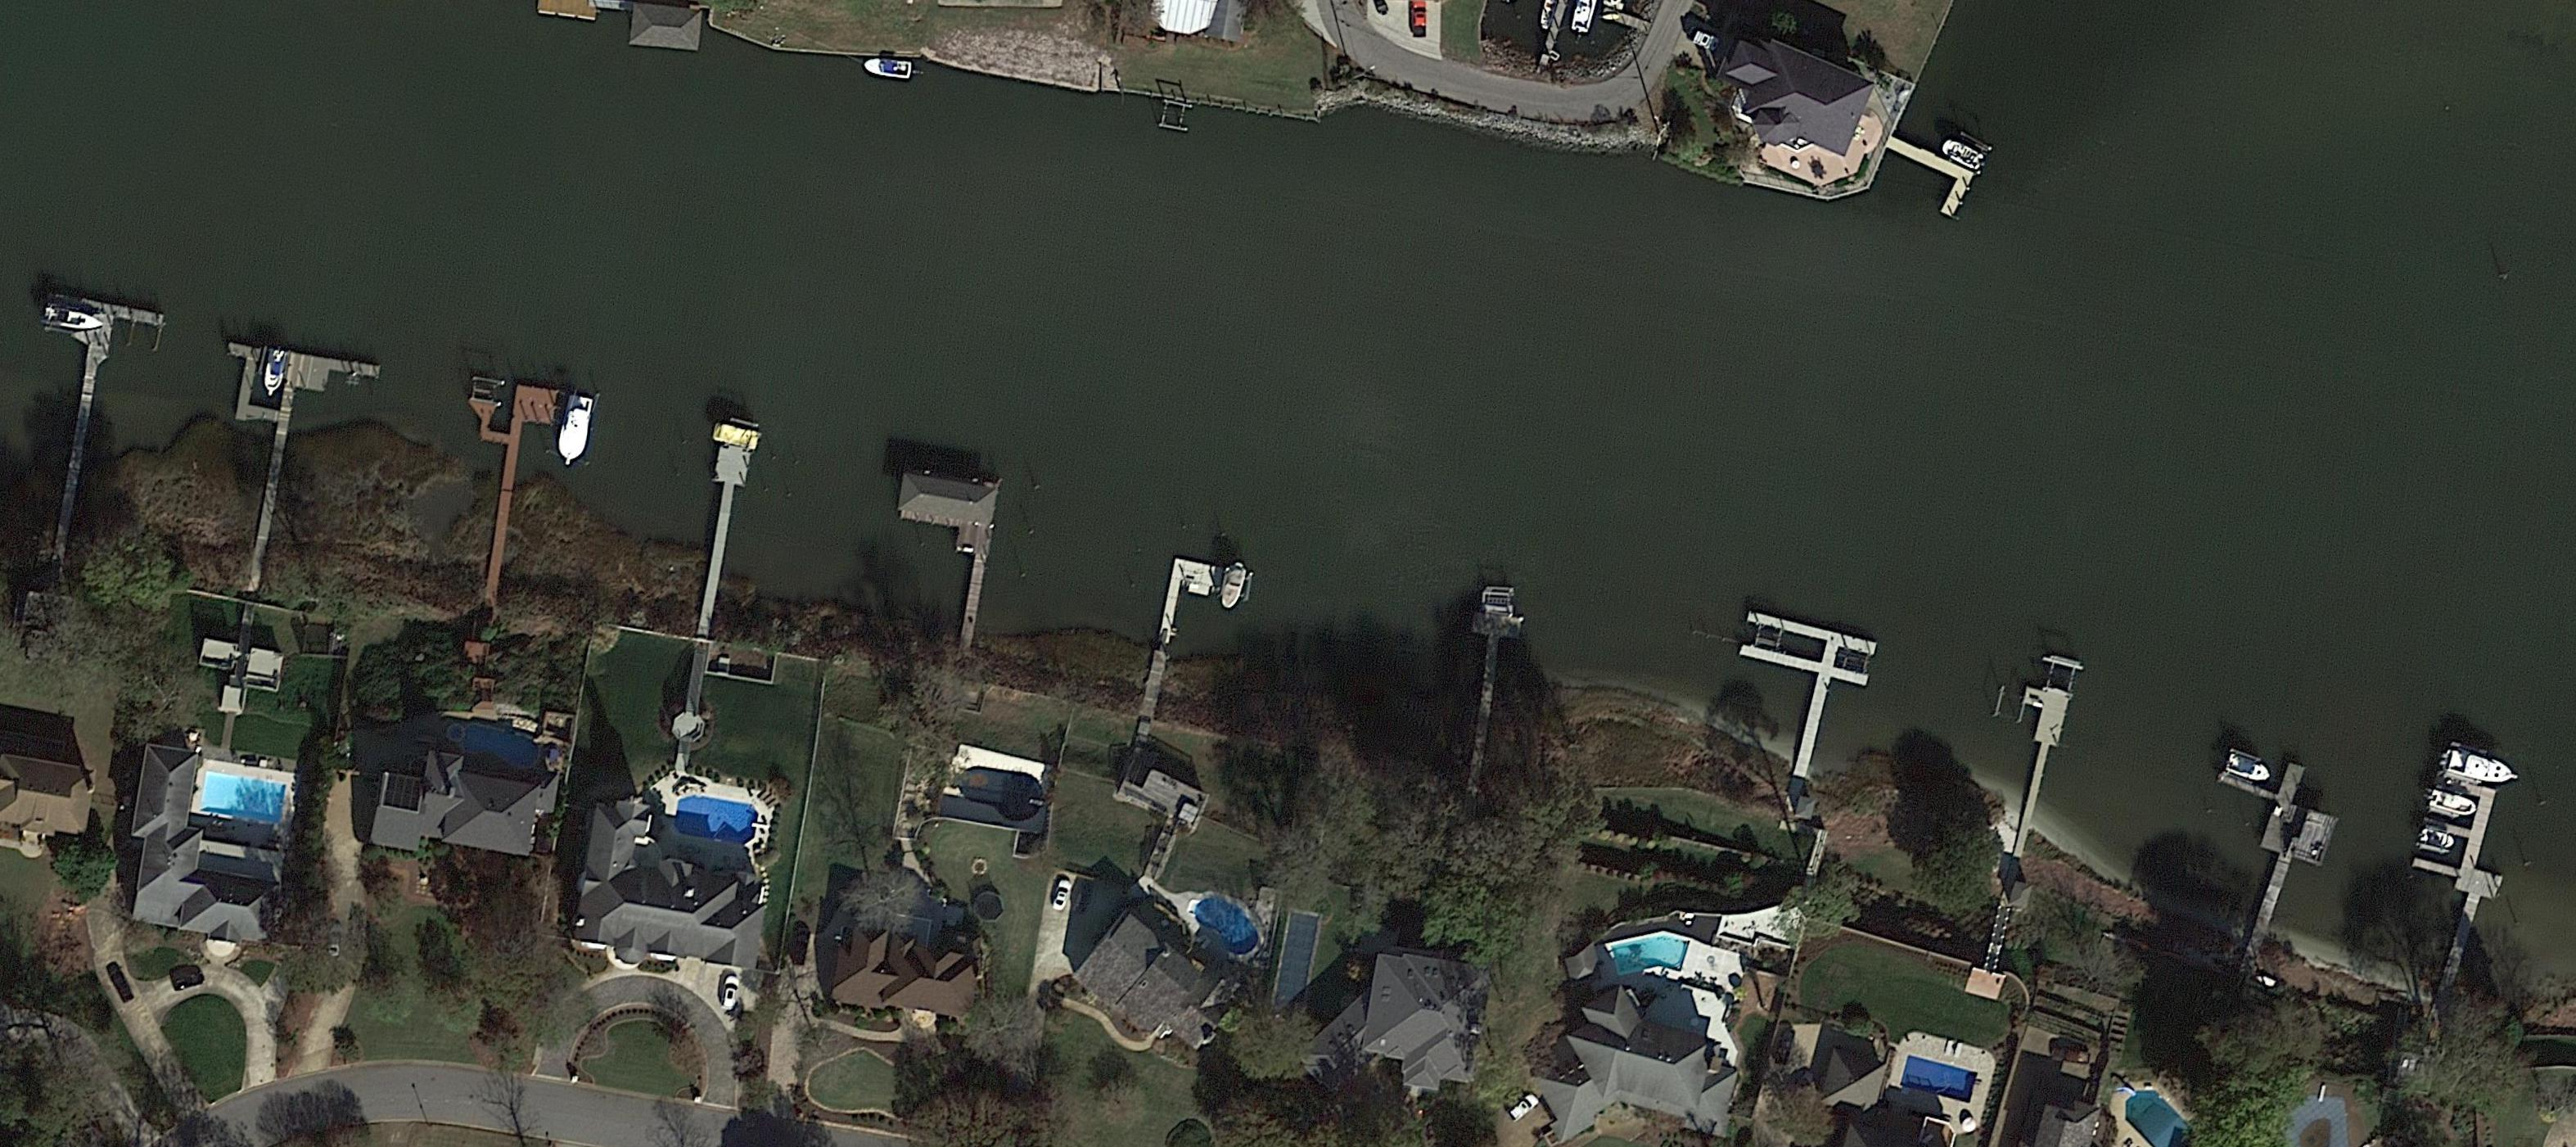harbor: (199, 343, 376, 588), (30, 294, 164, 567), (2387, 772, 2522, 971), (1717, 611, 1878, 769), (2234, 764, 2346, 963), (882, 468, 1001, 613), (1452, 585, 1526, 769), (1999, 682, 2072, 815), (1879, 135, 1976, 222), (703, 417, 761, 554), (1158, 559, 1224, 647), (503, 385, 562, 472)
ship: (2435, 739, 2527, 792), (549, 388, 601, 472), (2221, 748, 2277, 787), (1216, 560, 1253, 616), (1937, 133, 1988, 173), (38, 304, 105, 334), (2425, 785, 2479, 820), (858, 54, 918, 84), (258, 345, 289, 399), (711, 422, 759, 450), (2415, 825, 2458, 853), (2395, 1050, 2418, 1089), (2254, 973, 2277, 989)
